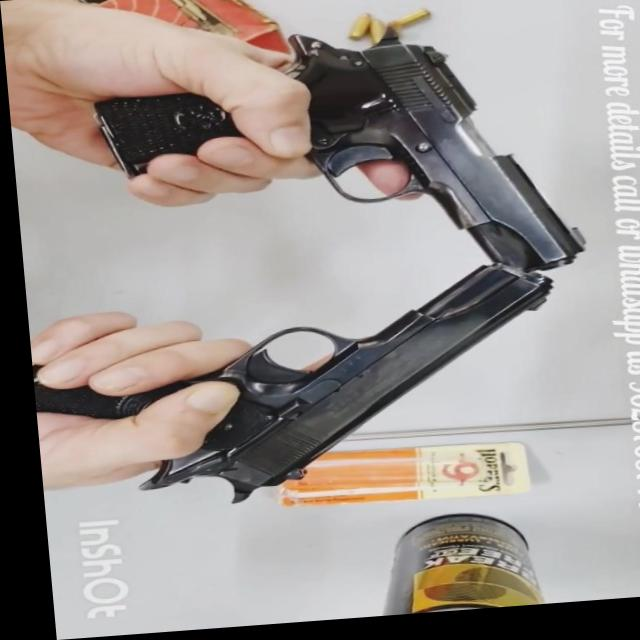handgun: (21, 269, 561, 515), (90, 26, 578, 297)
